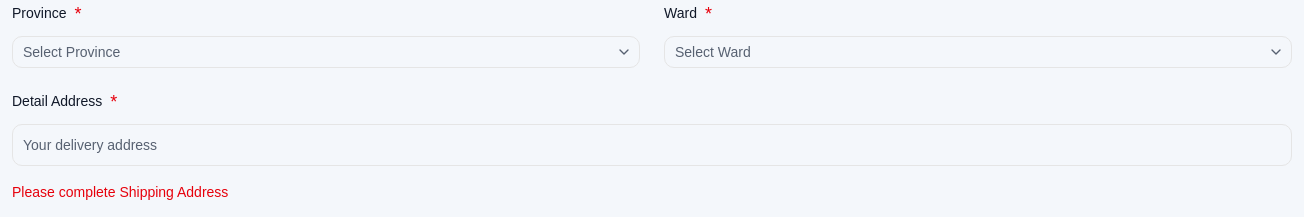
Test: ShippingAddress Component › hiển thị Preview Shipping Address khi điền đầy đủ Tỉnh, Phường và Tên đường
Type "Hồ Chí Minh" into the dropdown with placeholder "Select Province".
click(312, 52); type("Hồ Chí Minh")  # box left=13, top=36, right=612, bottom=68
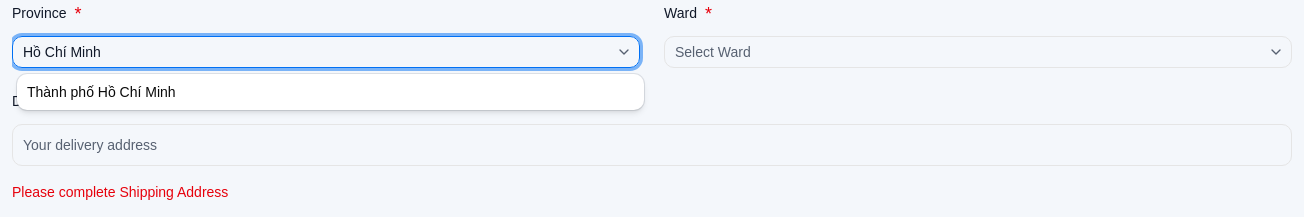
Click the option "Thành phố Hồ Chí Minh".
click(101, 92)  # box left=27, top=84, right=176, bottom=100
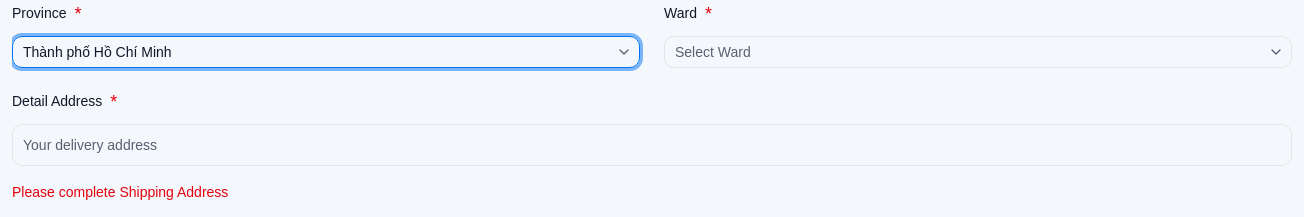
Type "Hòa Bình" into the dropdown with placeholder "Select Ward".
click(964, 52); type("Hòa Bình")  # box left=665, top=36, right=1264, bottom=68
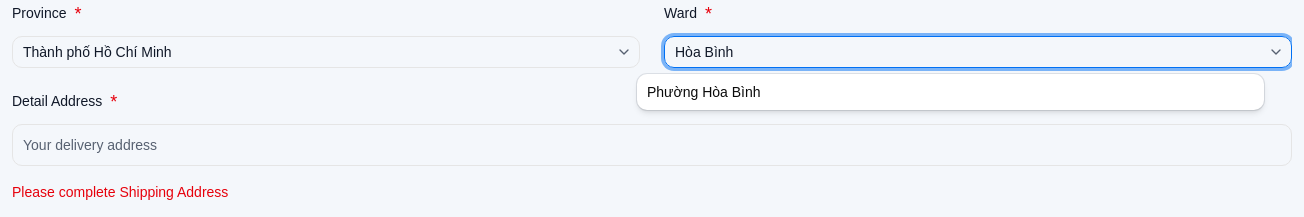
Click the option "Phường Hòa Bình".
click(704, 92)  # box left=647, top=84, right=760, bottom=100
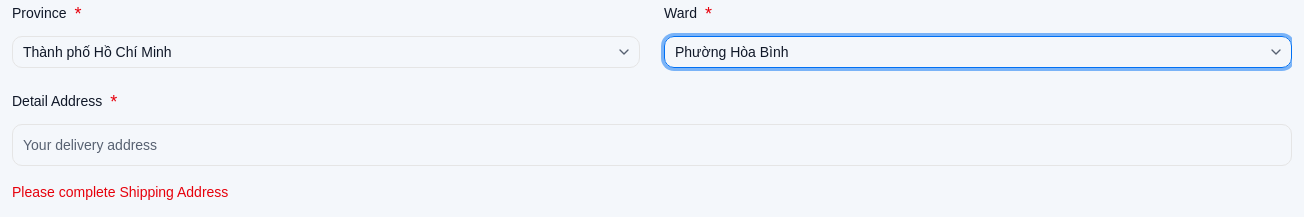
Type "123 Đường 3/2" into the field with placeholder "Your delivery address".
click(652, 145); type("123 Đường 3/2")  # box left=12, top=124, right=1292, bottom=166
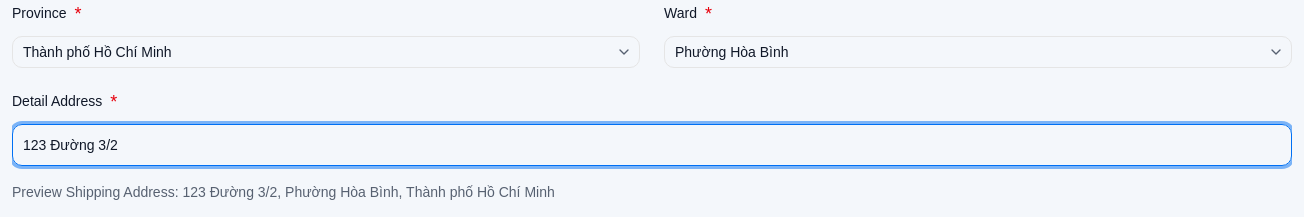
Expected: the text "Preview Shipping Address: 123 Đường 3/2, Phường Hòa Bình, Thành phố Hồ Chí Minh" is shown, left=12, top=184, right=555, bottom=200
